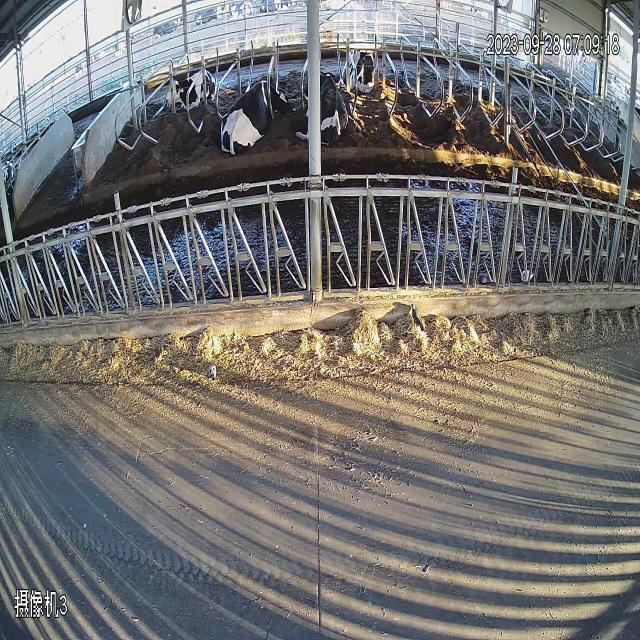lying down: (222, 49, 290, 165), (302, 58, 350, 161), (162, 50, 224, 128), (338, 21, 383, 101)
